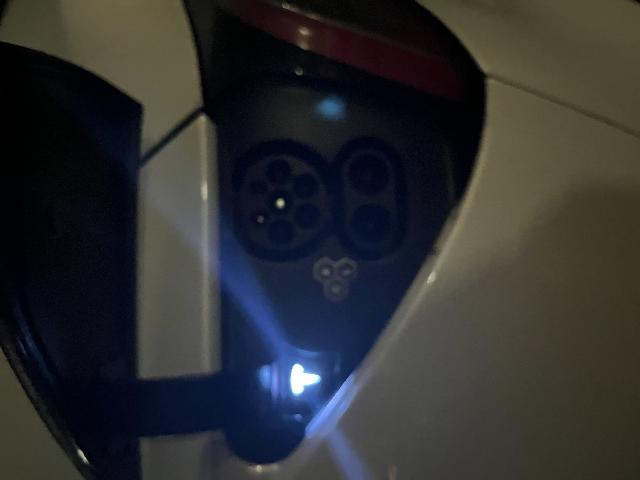inlet: (228, 243, 326, 332)
inlet-above-left: (250, 248, 271, 269)
inlet-above-right: (281, 248, 300, 268)
inlet-below-left: (249, 294, 276, 320)
inlet-below-right: (280, 292, 307, 317)
inlet-circle: (264, 266, 291, 292)
inlet-circle-left: (233, 267, 260, 295)
inlet-circle-right: (295, 265, 320, 291)
inlet-minus: (284, 349, 326, 390)
inlet-plus: (236, 351, 277, 391)
